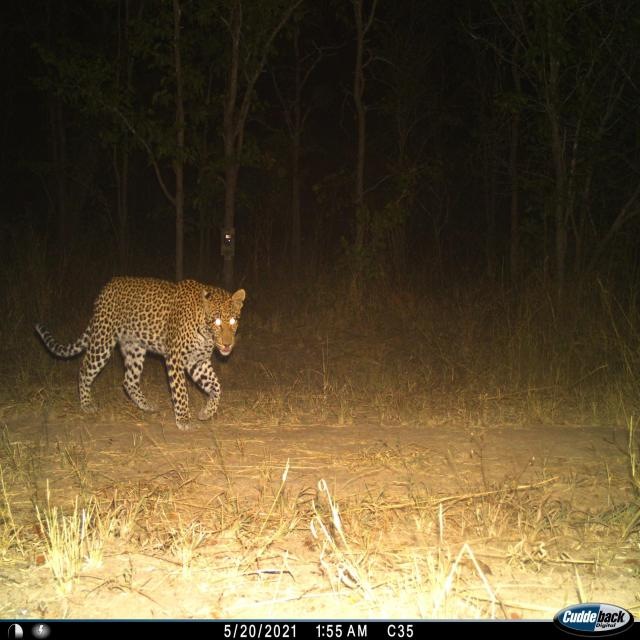Leopard: (31, 273, 247, 425)
